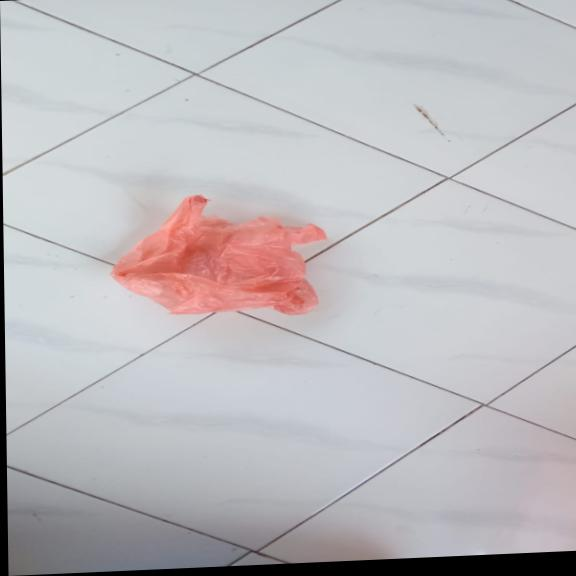Plastik: (109, 188, 330, 323)
